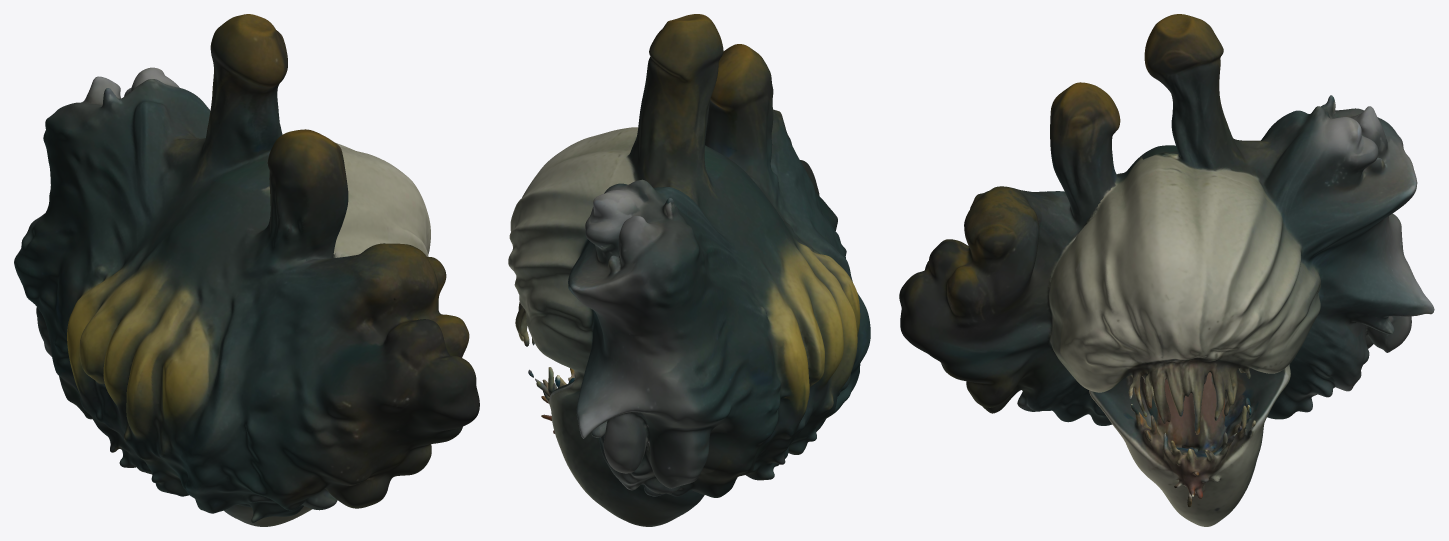
File: fugen.fbx
3 renders of one model, left to right at view 1: azimuth 30°, elevation 25°; view 2: azimuth 150°, elevation 25°; view 3: azimuth 270°, elevation 25°, orthographic. The views are drawn at different scales.
Parts seen in each view (by area): view 1: tripo_node_0124100b-0de9-4b71-a561-3274c008ff9c; view 2: tripo_node_0124100b-0de9-4b71-a561-3274c008ff9c; view 3: tripo_node_0124100b-0de9-4b71-a561-3274c008ff9c.
Part boxes in pixels (x1,y1,x2,y2): tripo_node_0124100b-0de9-4b71-a561-3274c008ff9c: (14, 14, 479, 526); tripo_node_0124100b-0de9-4b71-a561-3274c008ff9c: (508, 14, 870, 526); tripo_node_0124100b-0de9-4b71-a561-3274c008ff9c: (899, 14, 1434, 526).
Size of the model in its own units: 61.36 by 94.23 by 93.99.
1 material, 1 textured.
